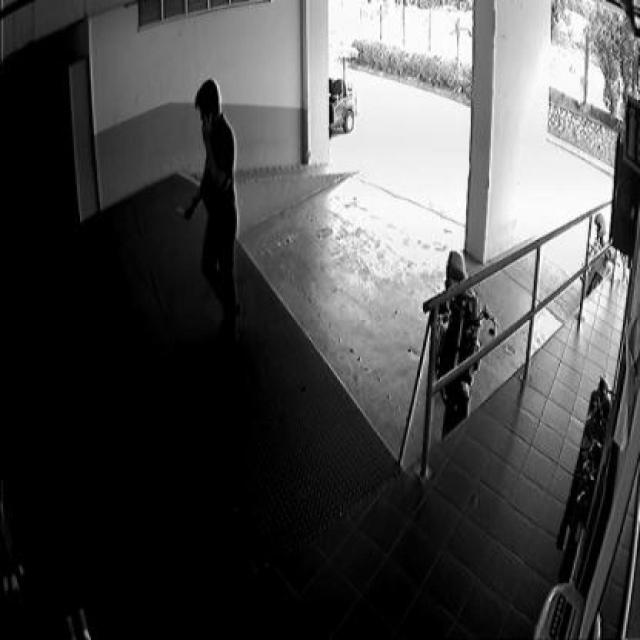weapon: (184, 185, 201, 221)
